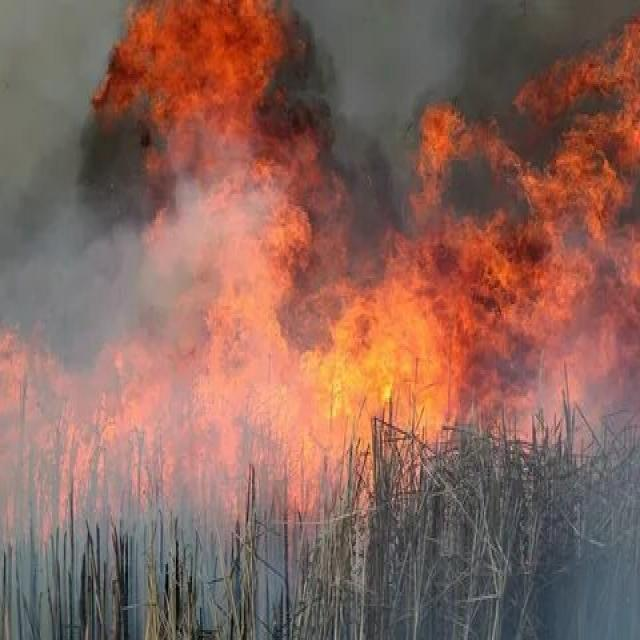Fire: (23, 8, 640, 513)
